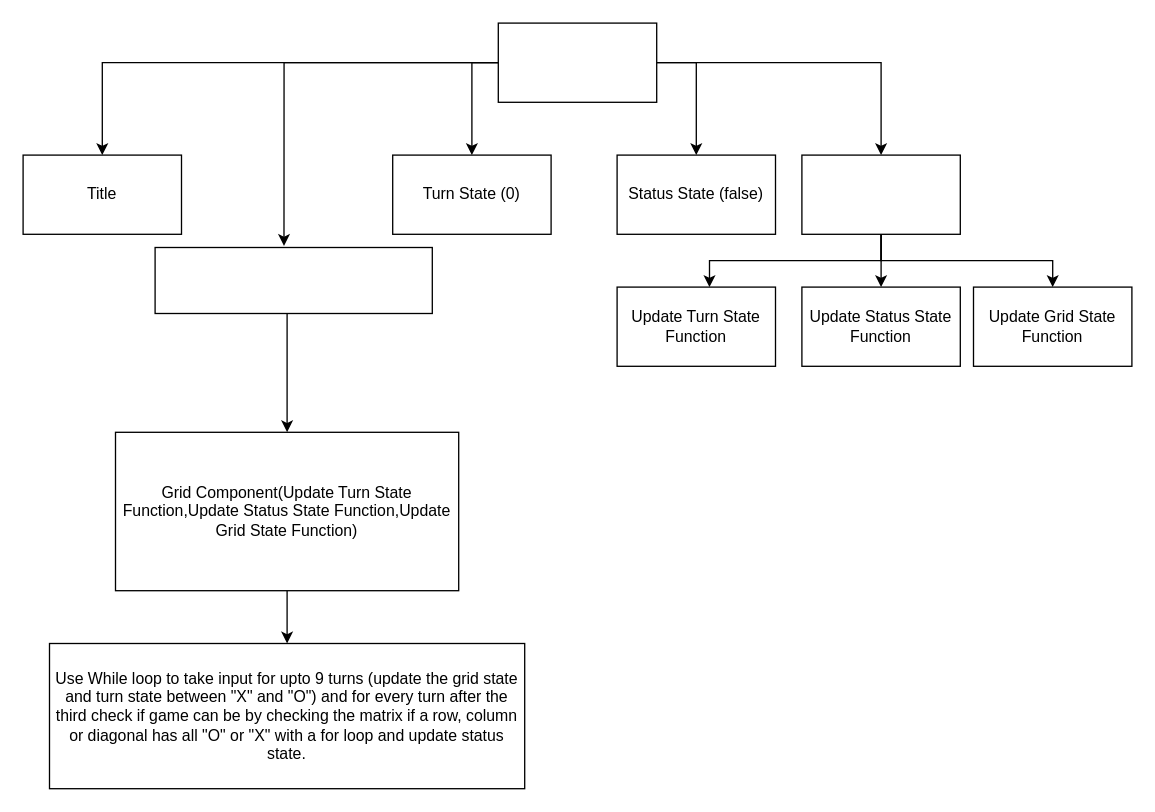
The diagram is 1155 pixels wide and 812 high, and some of its shapes have lost their labels. Here are the shapes that lost their labels. From the top down, the centre of each, then its label:
At (577,62): "Container Div".
At (880,194): "Functions".
At (293,280): "Grid State ([[0,0,0],[0,0,0],[0,0,0]])".
